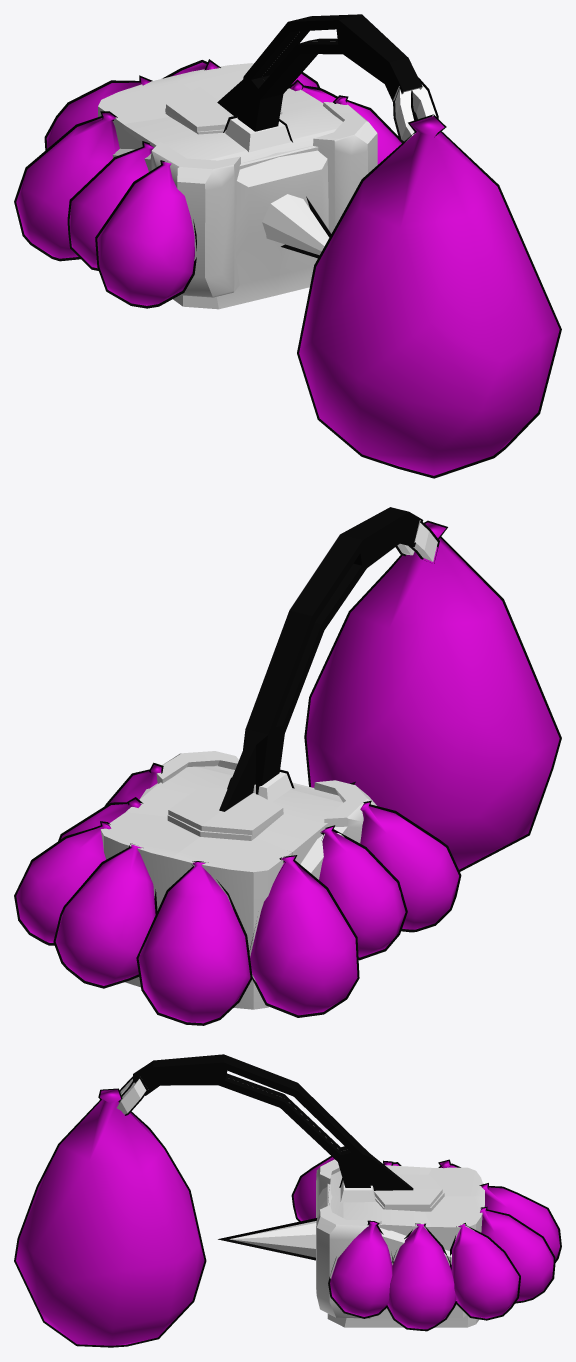
The model's file is balloonbombs.fbx.
3 views of the same model, one above another, from view 1: azimuth 30°, elevation 25°; view 2: azimuth 150°, elevation 25°; view 3: azimuth 270°, elevation 25° (orthographic). The views are drawn at different scales.
Visible parts, largest first — view 1: Balloons, Turret, Needle; view 2: Balloons, Turret; view 3: Balloons, Turret, Needle.
Part boxes in pixels (x1,y1,x2,y2): Balloons: (14, 14, 561, 478); Turret: (98, 63, 377, 309); Needle: (262, 194, 331, 258); Balloons: (14, 507, 561, 1025); Turret: (100, 751, 376, 1009); Balloons: (14, 1054, 561, 1347); Turret: (316, 1159, 484, 1327); Needle: (218, 1218, 317, 1260).
Size of the model in its own units: 182 by 95.44 by 103.
